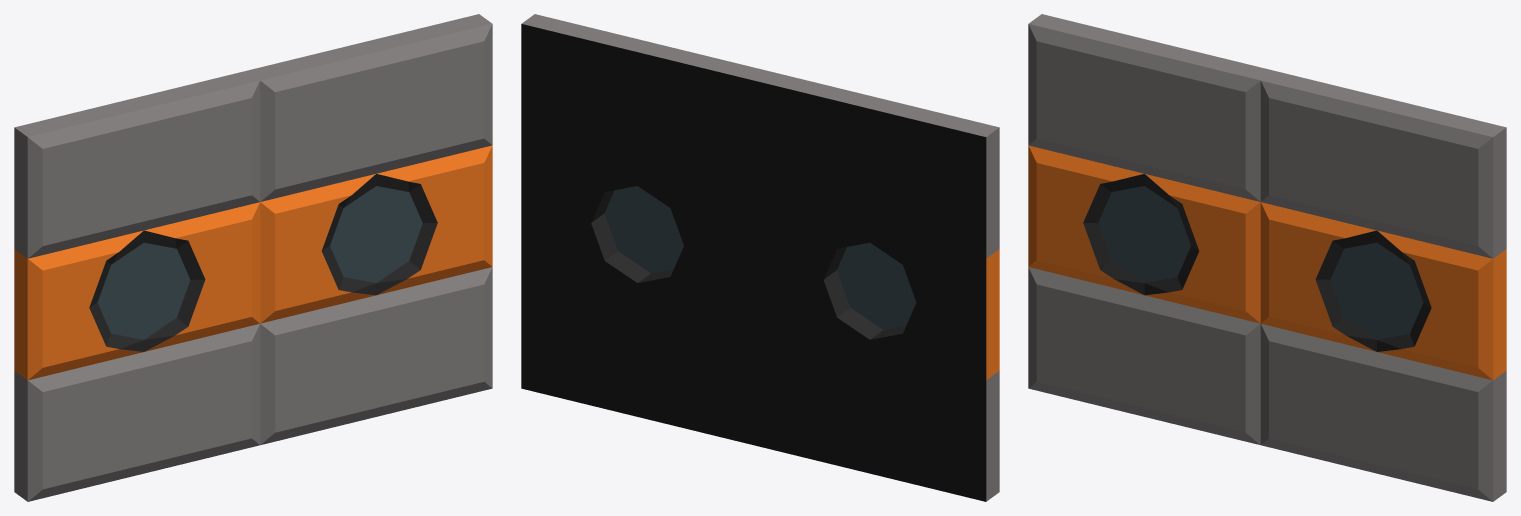
The model's file is scifi_scifi-wall-windows-stripe.fbx.
The picture shows the model from 3 angles, left to right: view 1: azimuth 30°, elevation 25°; view 2: azimuth 150°, elevation 25°; view 3: azimuth 330°, elevation 25°; orthographic projection.
Parts seen in each view (by area): view 1: scifi_scifi_wall_windows_stripe; view 2: scifi_scifi_wall_windows_stripe; view 3: scifi_scifi_wall_windows_stripe.
Boxes of the visible parts, x1,y1,x2,y2 form: scifi_scifi_wall_windows_stripe: (14,14,492,501); scifi_scifi_wall_windows_stripe: (521,14,999,501); scifi_scifi_wall_windows_stripe: (1028,14,1506,501).
Size of the model in its own units: 200 by 150 by 12.5.
